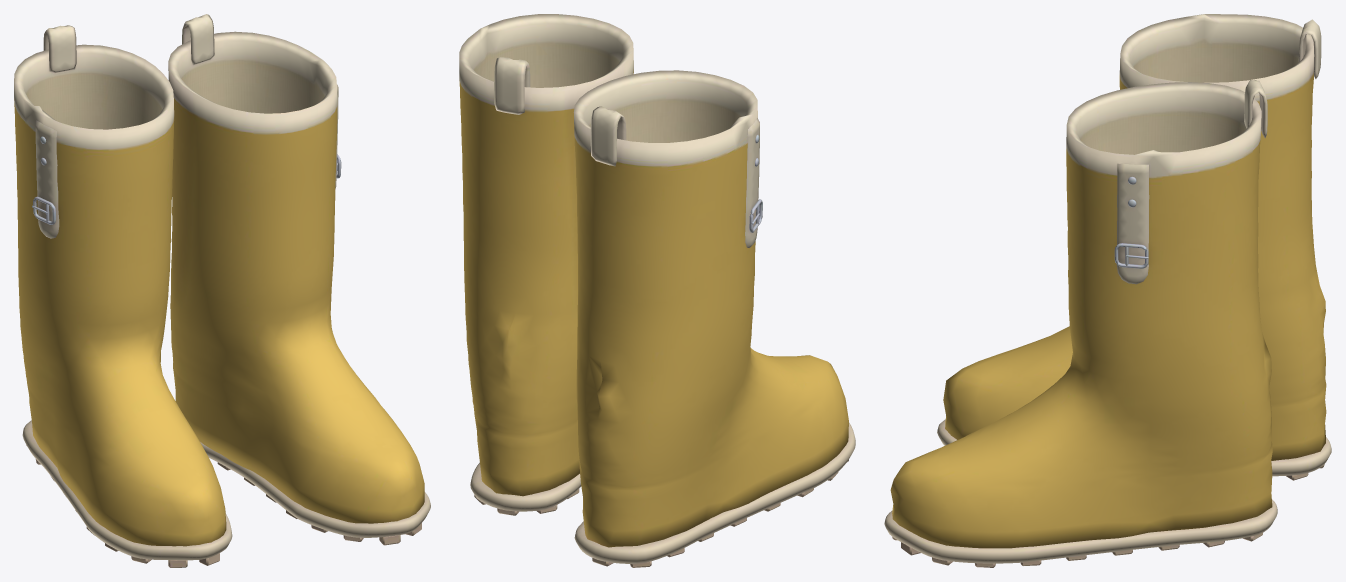
Rendered from rain-boots.glb.
3 renders of one model, left to right at view 1: azimuth 30°, elevation 25°; view 2: azimuth 150°, elevation 25°; view 3: azimuth 270°, elevation 25°, orthographic. The views are drawn at different scales.
Visible parts, largest first — view 1: rain-boots_body; view 2: rain-boots_body; view 3: rain-boots_body.
Boxes of the visible parts, x1,y1,x2,y2 form: rain-boots_body: (14, 14, 430, 567); rain-boots_body: (459, 14, 855, 567); rain-boots_body: (884, 14, 1331, 567).
Size of the model in its own units: 0.2687 by 0.3649 by 0.3364.
1 material, 1 textured.
